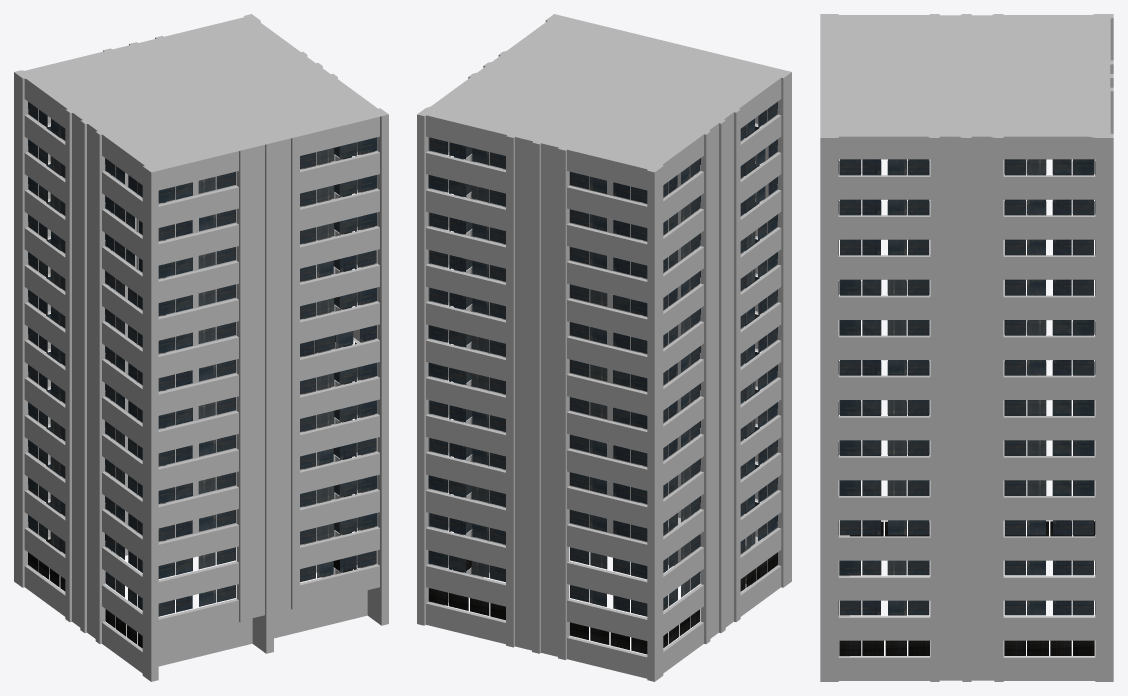
The picture shows the model from 3 angles, left to right: view 1: azimuth 30°, elevation 25°; view 2: azimuth 150°, elevation 25°; view 3: azimuth 270°, elevation 25°; orthographic projection. The views are drawn at different scales.
Visible parts, largest first — view 1: Wins-02; view 2: Wins-02; view 3: Wins-02.
Boxes of the visible parts, x1,y1,x2,y2 form: Wins-02: (14, 14, 388, 681); Wins-02: (417, 14, 791, 681); Wins-02: (820, 14, 1113, 681).
Size of what is drawn, in the model's own units: 19.87 by 40.7 by 19.87.
